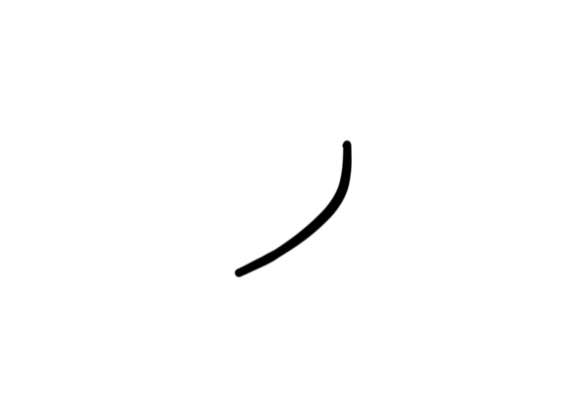no: (224, 135, 356, 285)
